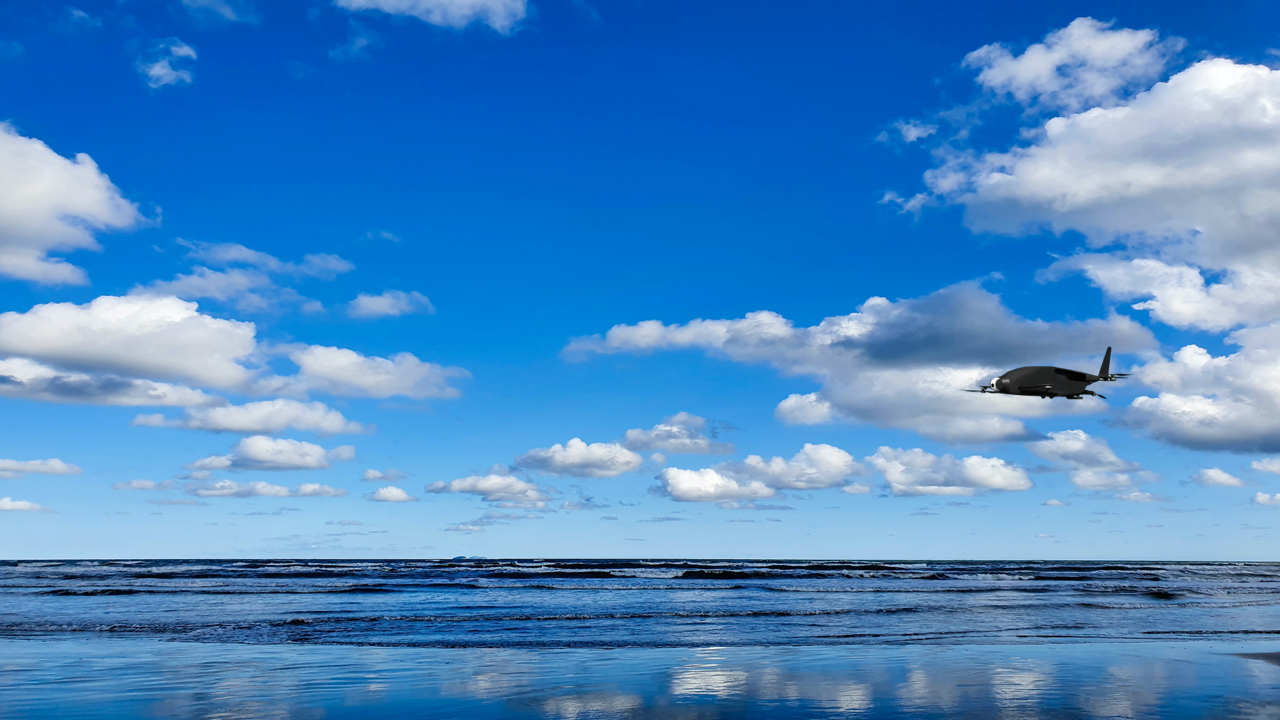military drone: (962, 346, 1132, 399)
